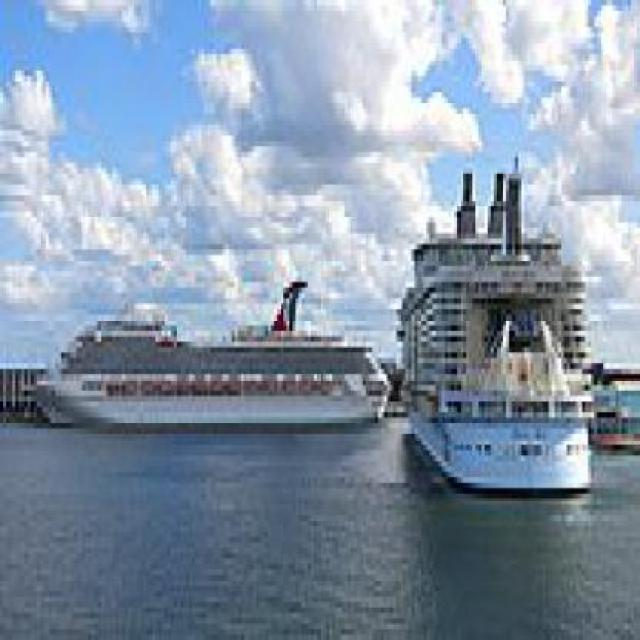cruise: (385, 147, 614, 523), (19, 261, 403, 446)
